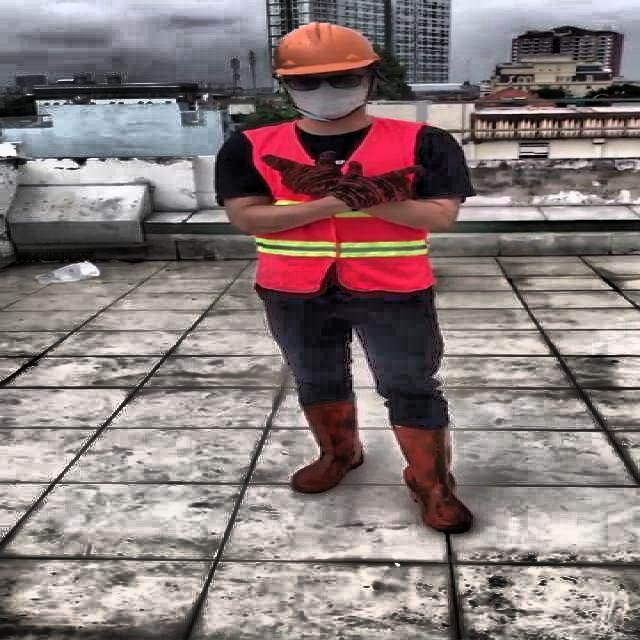safety_helmet: (267, 19, 388, 78)
safety_jacket: (242, 123, 437, 295)
